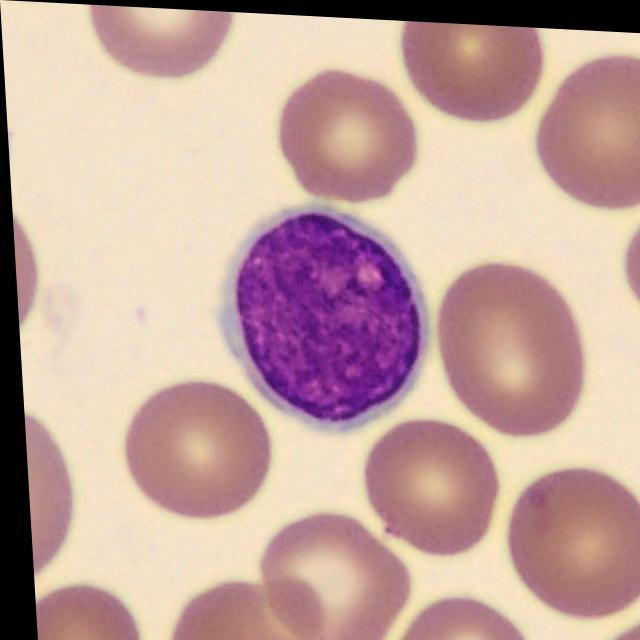Linfocito: (222, 202, 424, 421)
